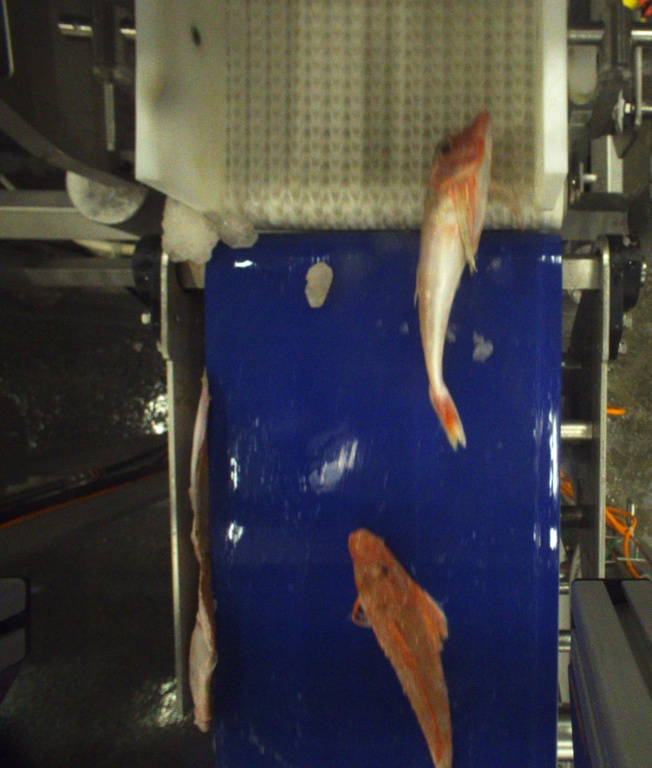GUU: (348, 529, 456, 768)
